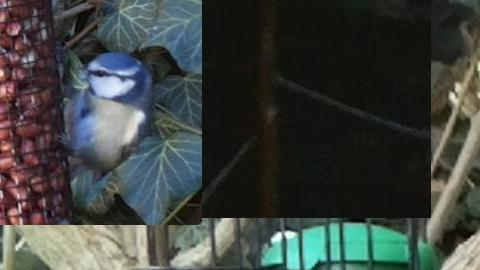blue tit: (48, 50, 152, 201)
